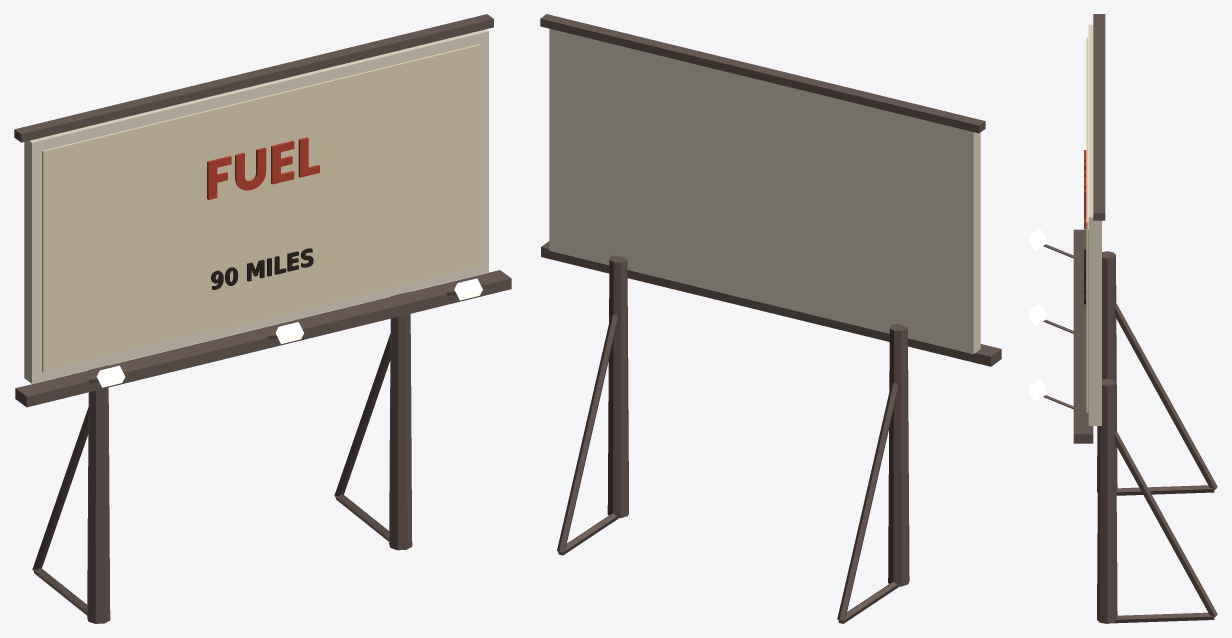
Rendered from billboard_0.glb.
3 views of the same model, side by side, from view 1: azimuth 30°, elevation 25°; view 2: azimuth 150°, elevation 25°; view 3: azimuth 270°, elevation 25° (orthographic). The views are drawn at different scales.
Parts seen in each view (by area): view 1: billboard_0; view 2: billboard_0; view 3: billboard_0.
Boxes of the visible parts, bbox=[...] form: billboard_0: bbox=[14, 14, 511, 623]; billboard_0: bbox=[540, 14, 1001, 623]; billboard_0: bbox=[1030, 14, 1217, 623].
Bounding box in the file's own units: 12.2 × 12.38 × 4.73.
